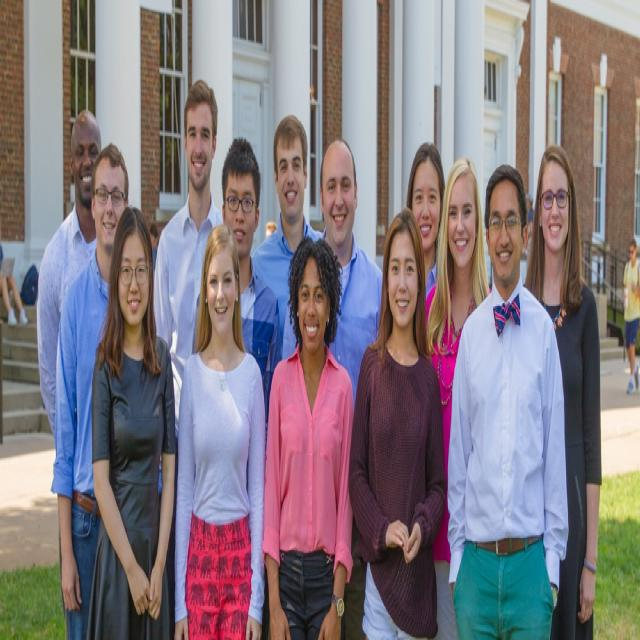body: (443, 158, 571, 639), (345, 204, 447, 638), (80, 198, 180, 639), (150, 75, 226, 640), (170, 213, 270, 638), (258, 227, 358, 638), (49, 142, 130, 640), (522, 143, 603, 640), (418, 156, 494, 638), (314, 134, 385, 640), (190, 135, 282, 462), (34, 106, 102, 439), (250, 111, 327, 366), (405, 140, 446, 302), (622, 238, 640, 396), (0, 240, 29, 330), (523, 179, 538, 248), (148, 218, 160, 276)
